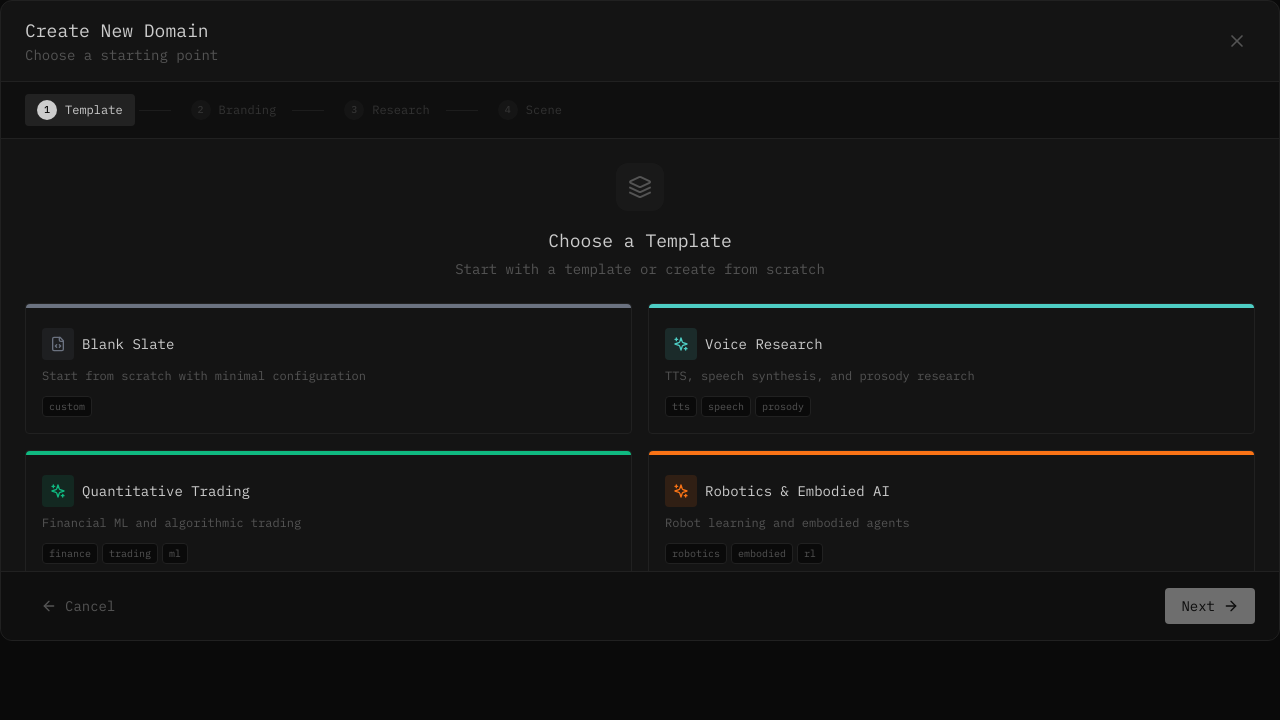
Test case: DomainWizard › navigation › enables Next after selecting template
Select a template
Click the heading "Blank Slate".
click(128, 344)  # box [82,334,174,354]
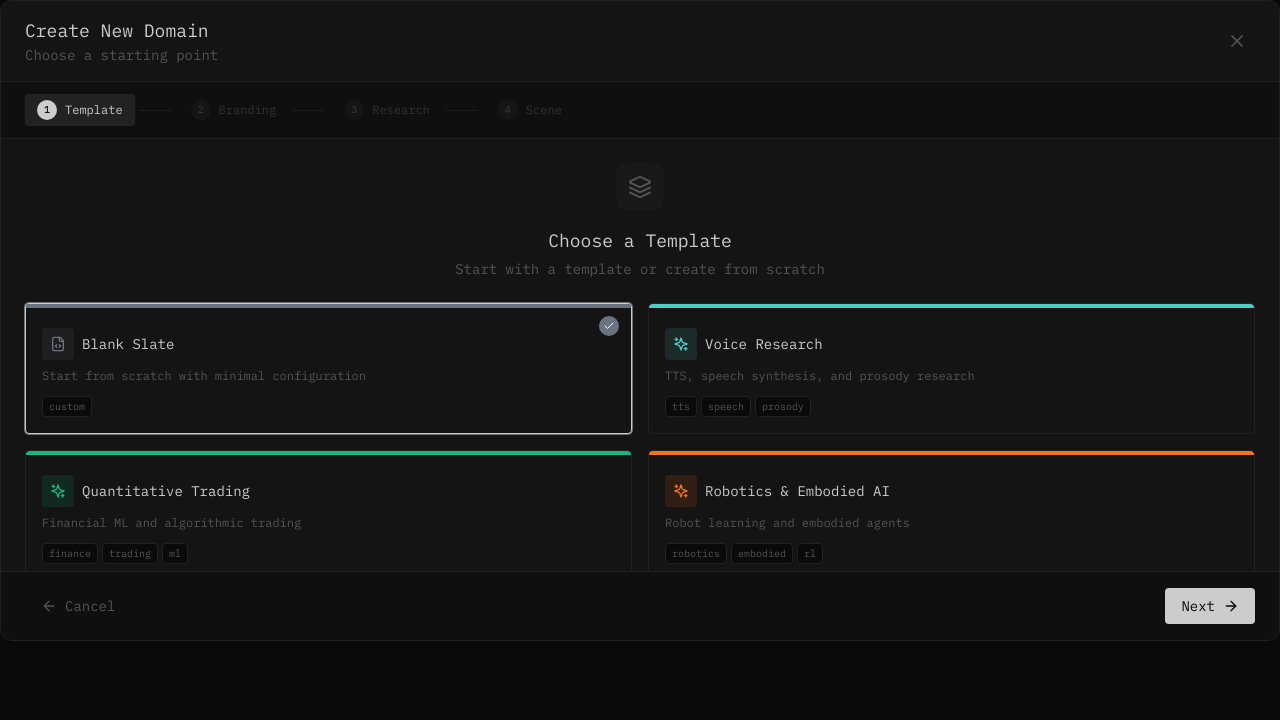
Check: the button "Next" is enabled, box [1165,588,1255,624]
